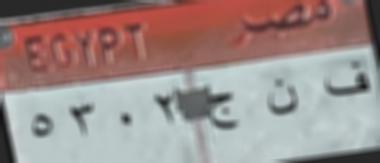0: (114, 105, 136, 131)
2: (152, 87, 178, 126)
3: (66, 102, 97, 140)
5: (28, 108, 55, 142)
faa: (318, 58, 373, 100)
jeem: (200, 88, 244, 136)
noon: (260, 74, 303, 120)
